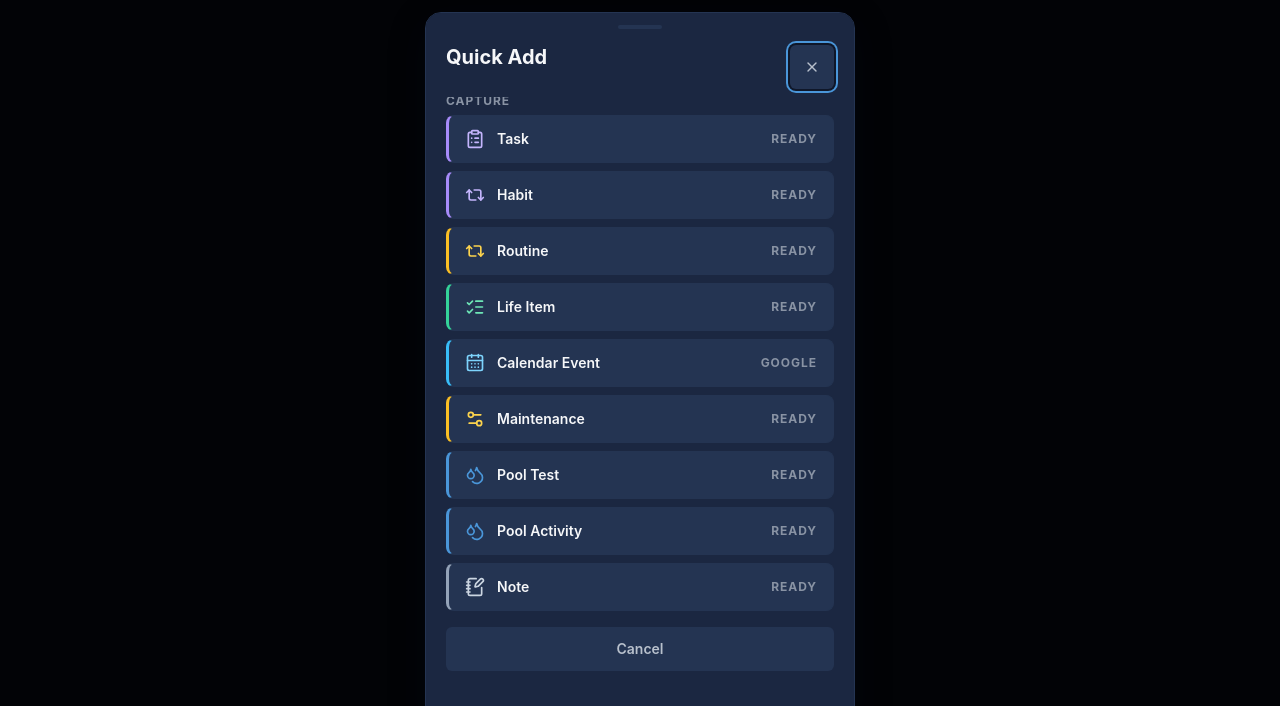
QuickAdd Pool Test › renders optional pH and FC fields in the Pool Test form
The image size is (1280, 706).
(page scrolled)
Step 1. Click the button "Pool Test Ready" → x=528, y=474, box [446, 451, 834, 499]
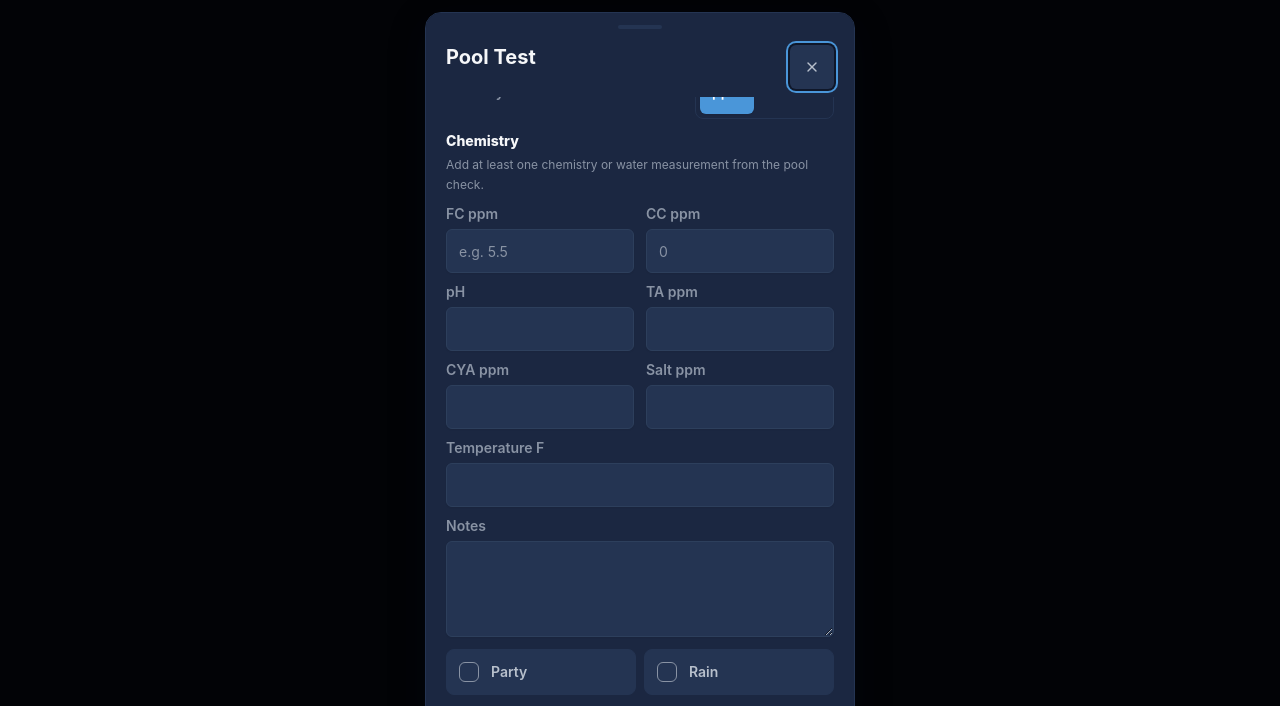
Expected: the text "FC ppm" is shown, [446, 207, 498, 221]
Expected: the text "CC ppm" is shown, [646, 207, 700, 221]
Expected: the text "pH" is shown, [446, 285, 465, 299]
